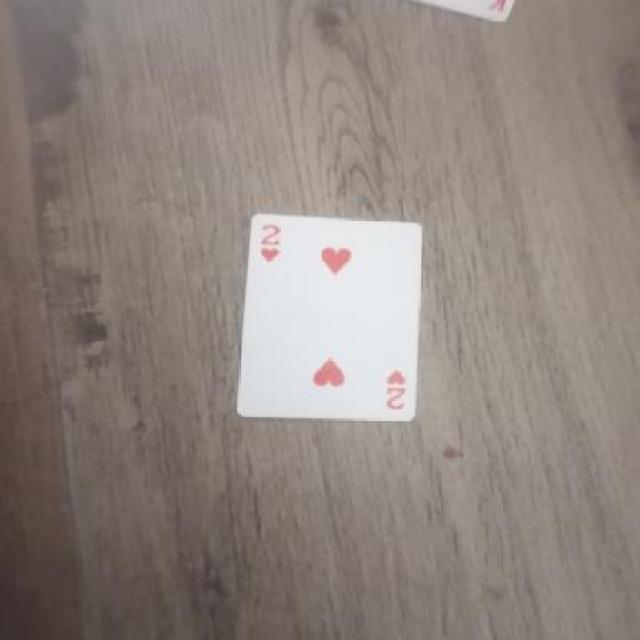2H: (246, 222, 312, 270), (369, 367, 417, 416)
